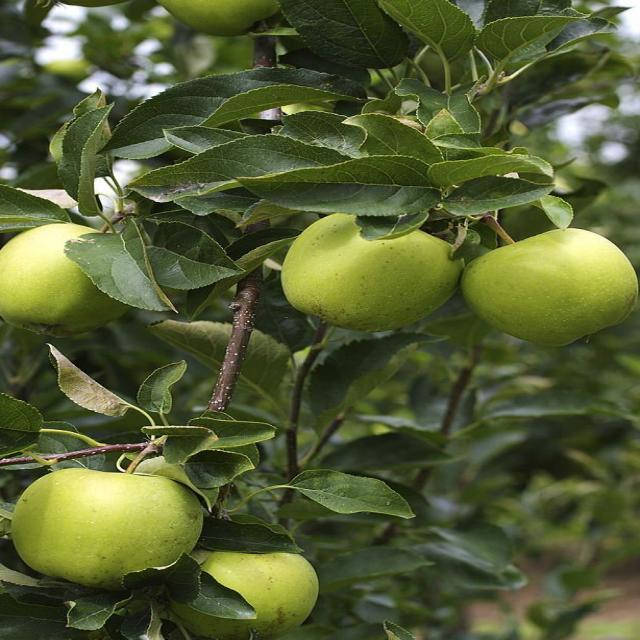Green Apple: (4, 467, 197, 590), (280, 210, 465, 332), (470, 232, 640, 342), (1, 214, 124, 333), (185, 536, 322, 636), (156, 1, 291, 20)
